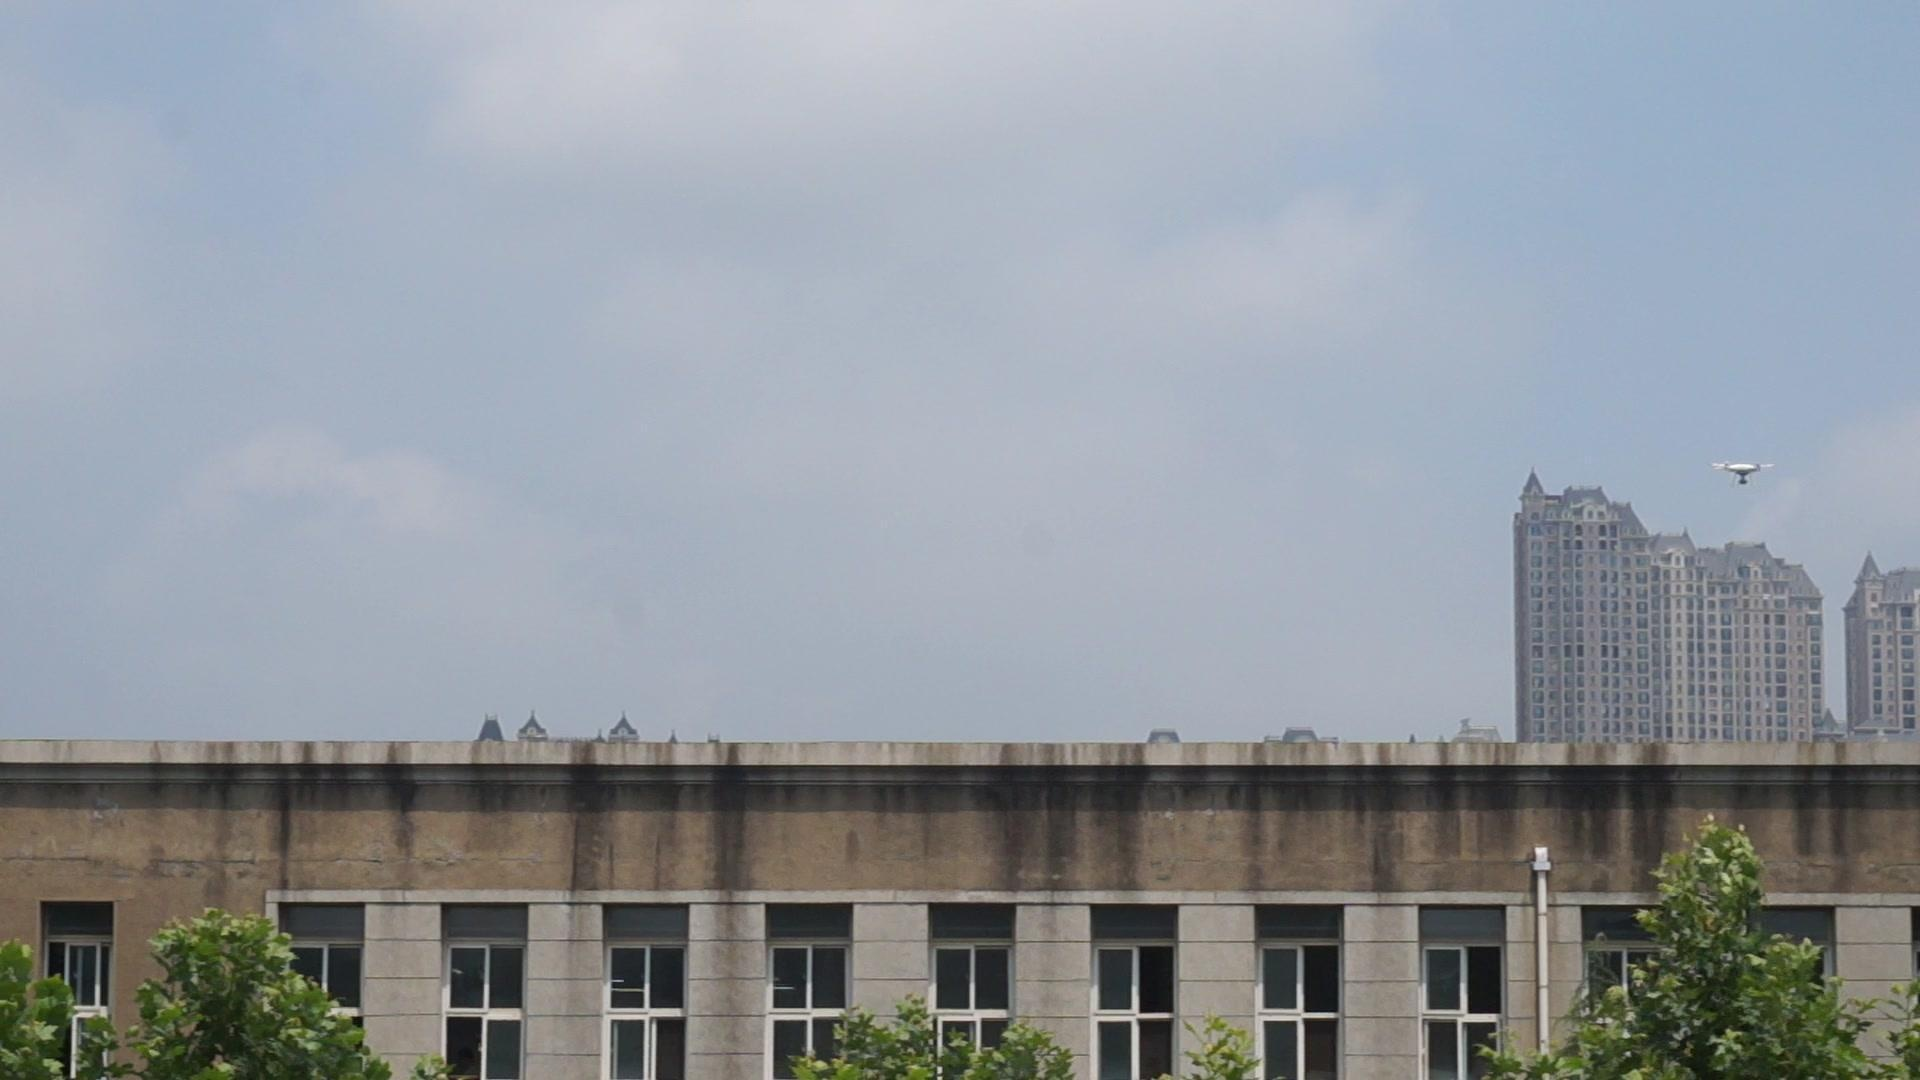UAV: (1714, 462, 1776, 487)
